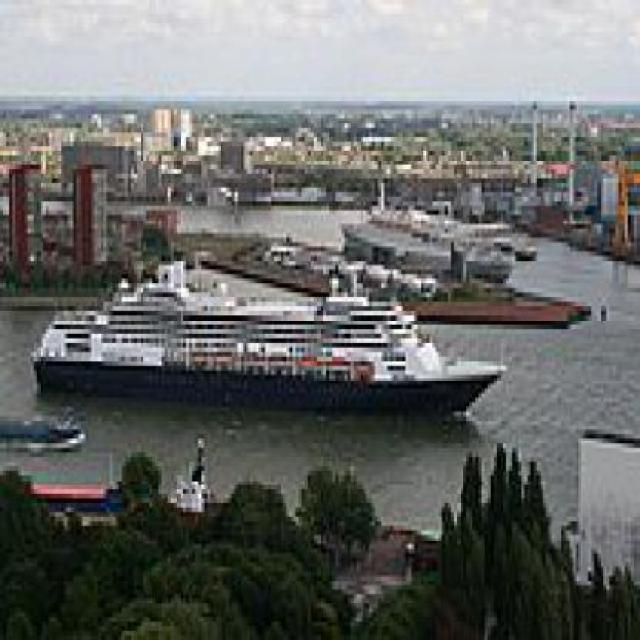cruise: (20, 225, 517, 440)
